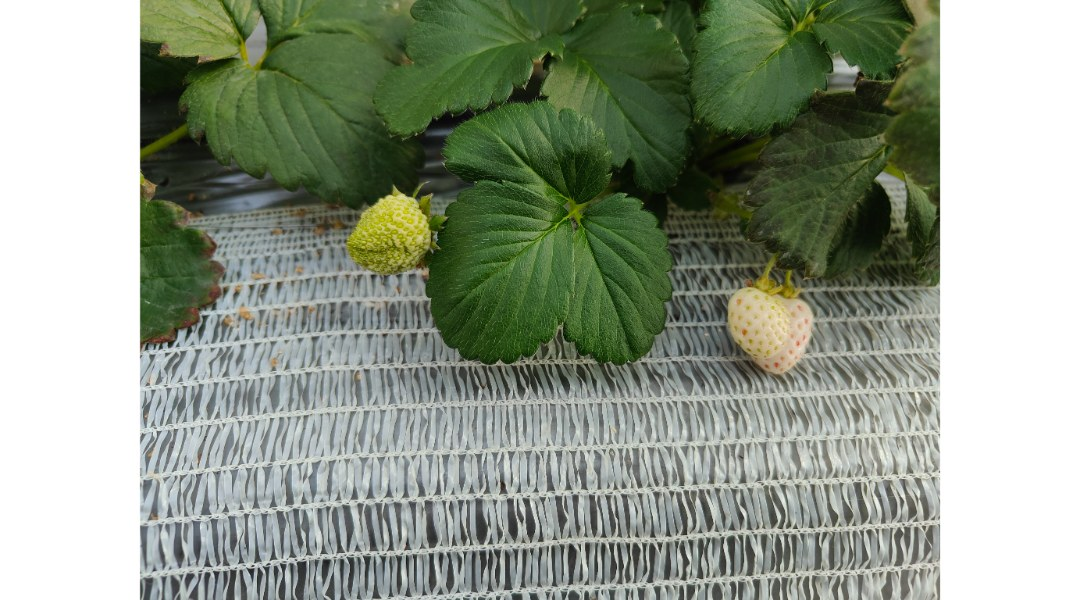berry: (719, 267, 832, 381), (339, 177, 437, 294)
